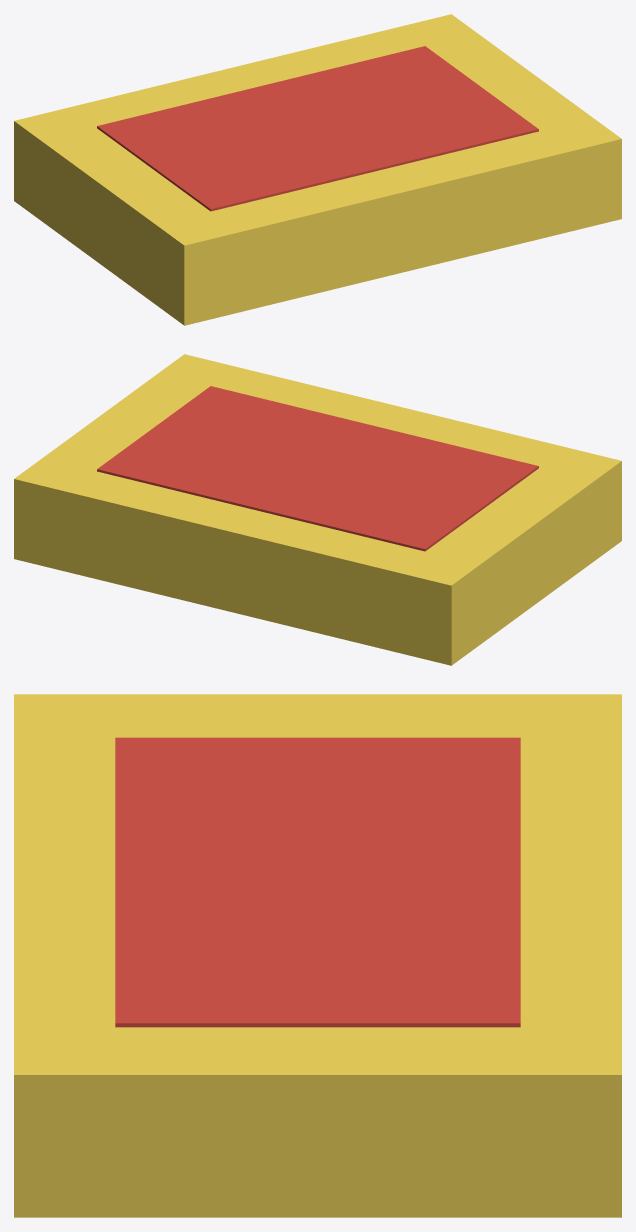
Rendered from sm_product_board_game.glb.
3 views of the same model, one above another, from view 1: azimuth 30°, elevation 25°; view 2: azimuth 150°, elevation 25°; view 3: azimuth 270°, elevation 25° (orthographic). The views are drawn at different scales.
Parts seen in each view (by area): view 1: board_game_0, board_game_1; view 2: board_game_0, board_game_1; view 3: board_game_0, board_game_1.
Part boxes in pixels (x1,y1,x2,y2): board_game_0: [14, 14, 621, 325]; board_game_1: [97, 46, 538, 211]; board_game_0: [14, 354, 621, 665]; board_game_1: [97, 386, 538, 551]; board_game_0: [14, 694, 621, 1217]; board_game_1: [115, 737, 520, 1027].
Size of what is drawn, in the model's own units: 0.4 by 0.072 by 0.27.
